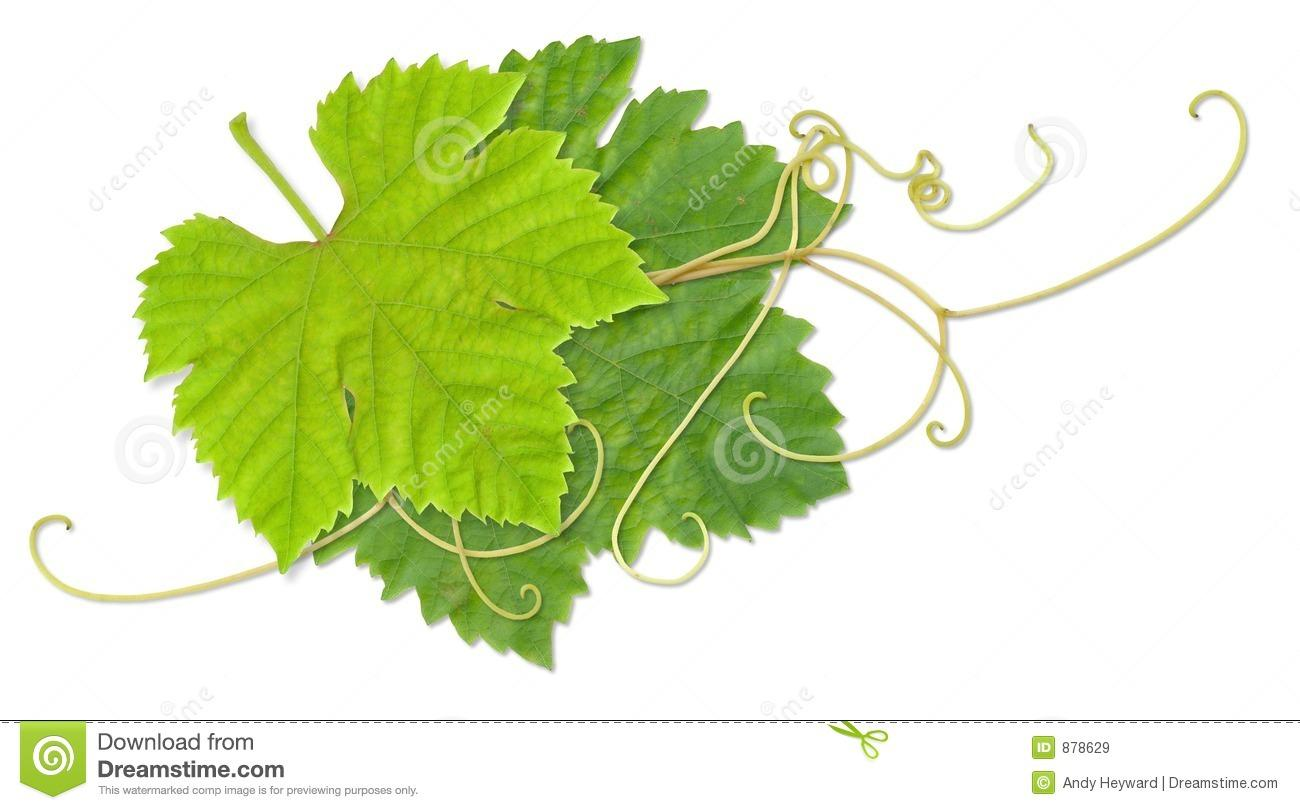grape leaf black rot: (122, 40, 676, 603)
